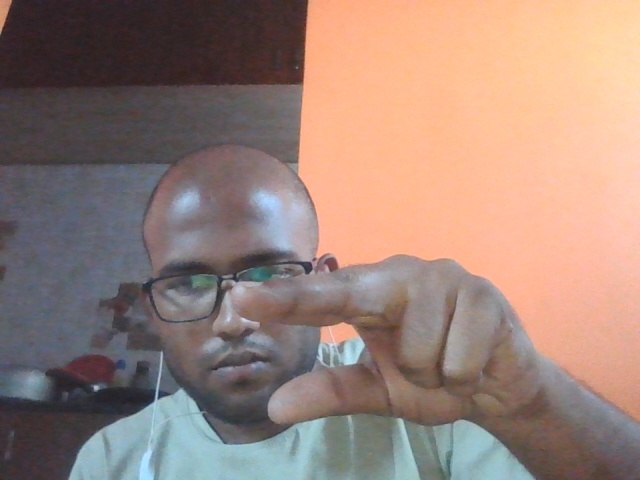no: (216, 244, 573, 446)
